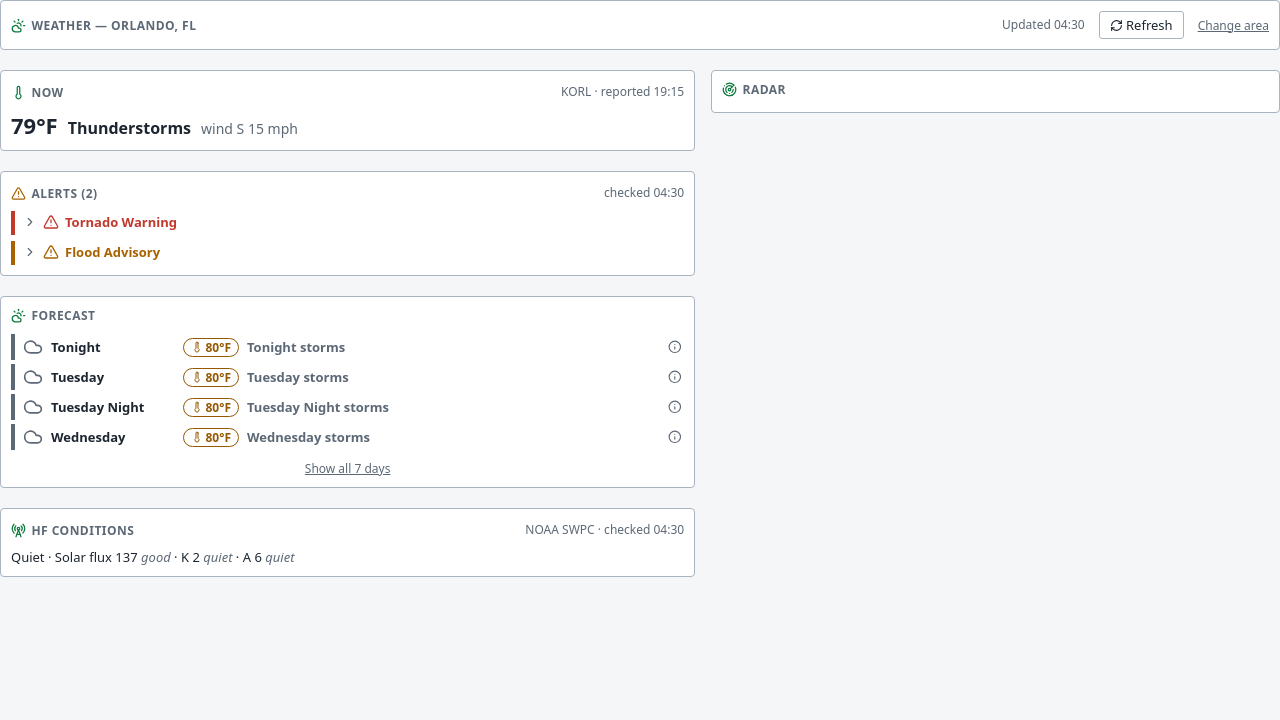
Scenario: WeatherTab (NWSA-013) › lists warnings first, and opens an alert's text in paragraphs
Check: the heading "Alerts (2)" is shown, box [11,185,98,202]
Click the button "Tornado Warning" at (121, 222), box [23,213,684,231]
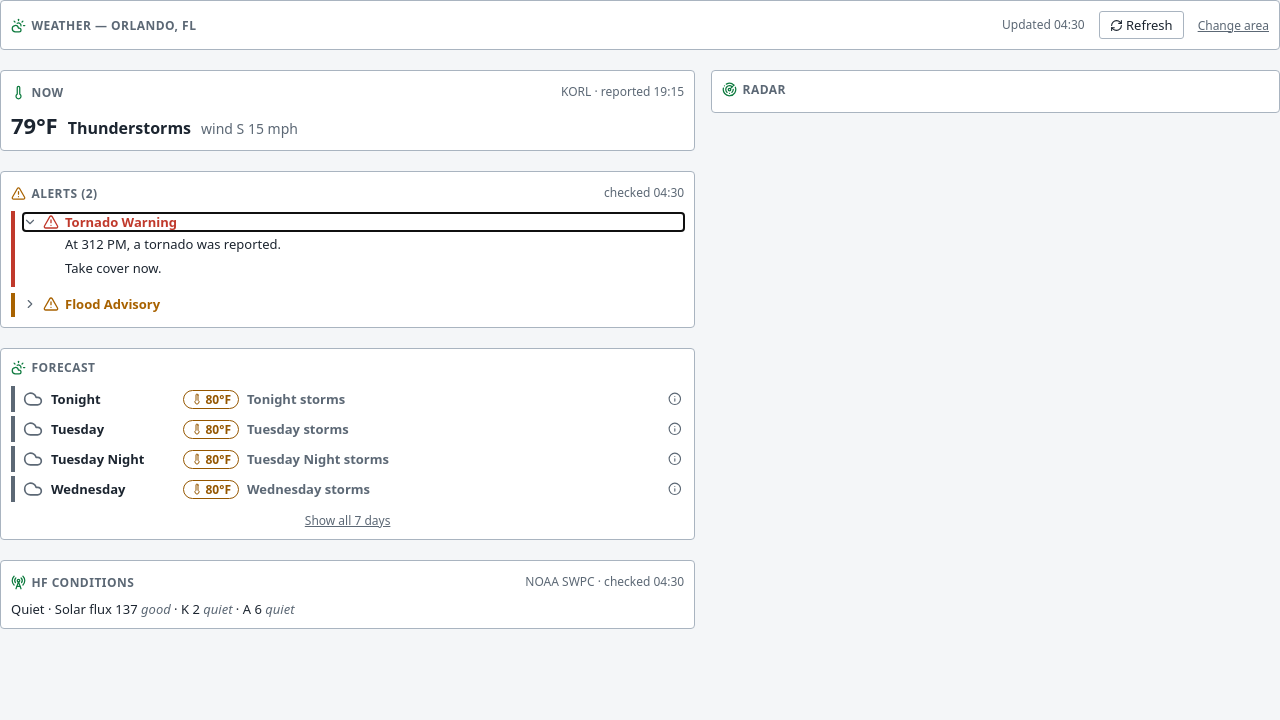
Check: the text "At 312 PM, a tornado was reported." is shown, box [65,235,281,253]
Check: the text "Take cover now." is shown, box [65,259,162,277]
